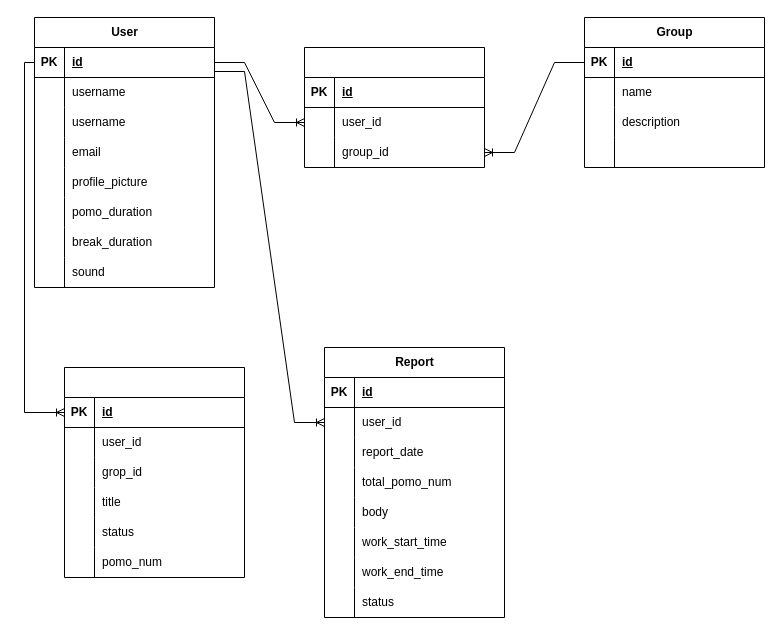
The diagram is 782 pixels wide and 635 high, and some of its shapes have lost their labels. Each missing label, with the box of its shape:
Group_users: (304, 46, 484, 168)
Task: (64, 366, 244, 578)
